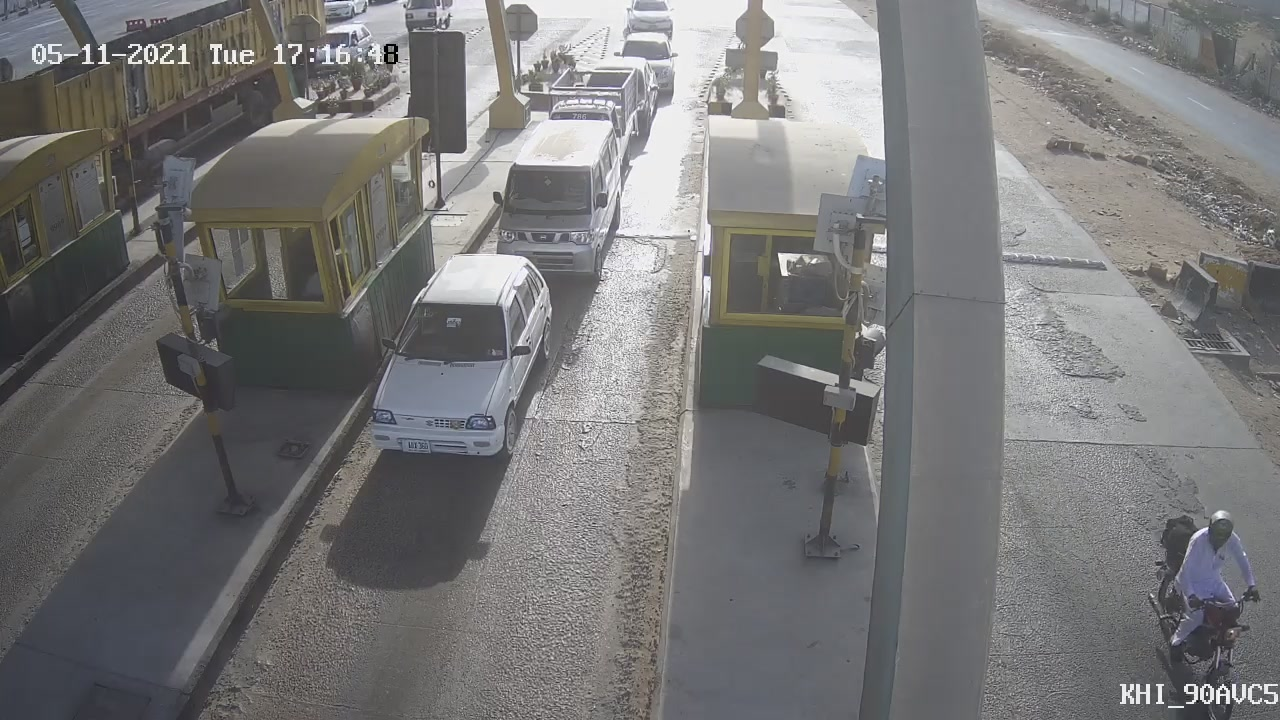F1: (347, 238, 573, 488), (478, 104, 642, 304)
